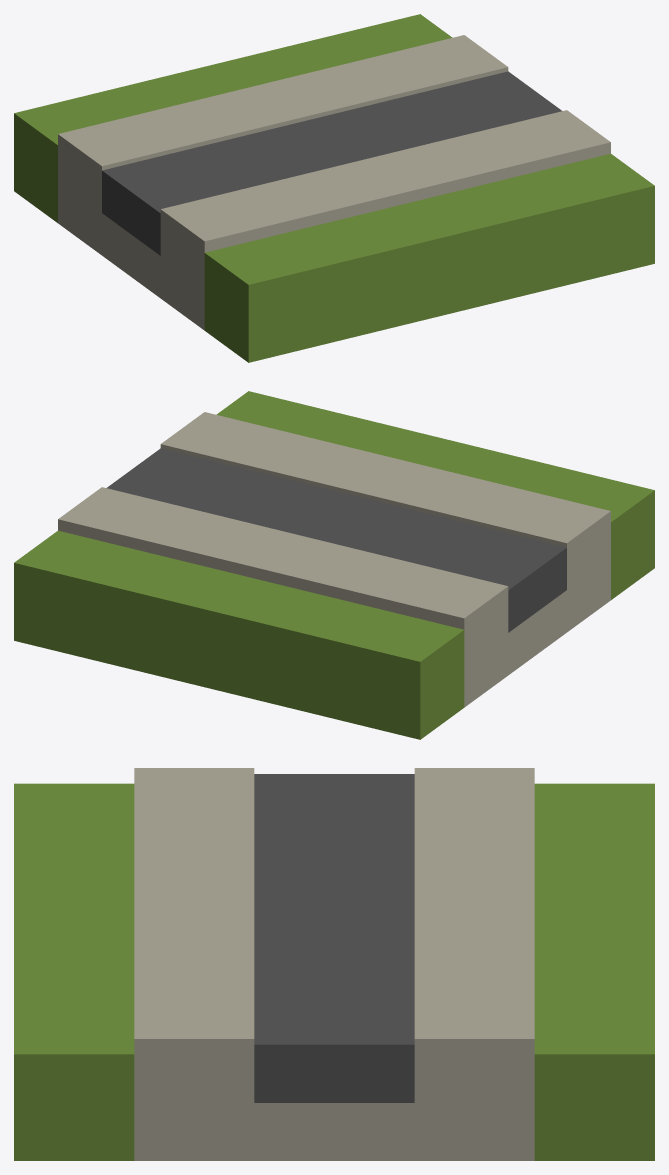
The model's file is roadTile_160.obj.
3 views of the same model, one above another, from view 1: azimuth 30°, elevation 25°; view 2: azimuth 150°, elevation 25°; view 3: azimuth 270°, elevation 25° (orthographic). The views are drawn at different scales.
Visible parts, largest first — view 1: Mesh1_Group1_Model.264; view 2: Mesh1_Group1_Model.264; view 3: Mesh1_Group1_Model.264.
Part boxes in pixels (x1,y1,x2,y2): Mesh1_Group1_Model.264: [14, 14, 654, 362]; Mesh1_Group1_Model.264: [14, 391, 654, 739]; Mesh1_Group1_Model.264: [14, 768, 654, 1160].
Size of the model in its own units: 3 by 0.63 by 3.
